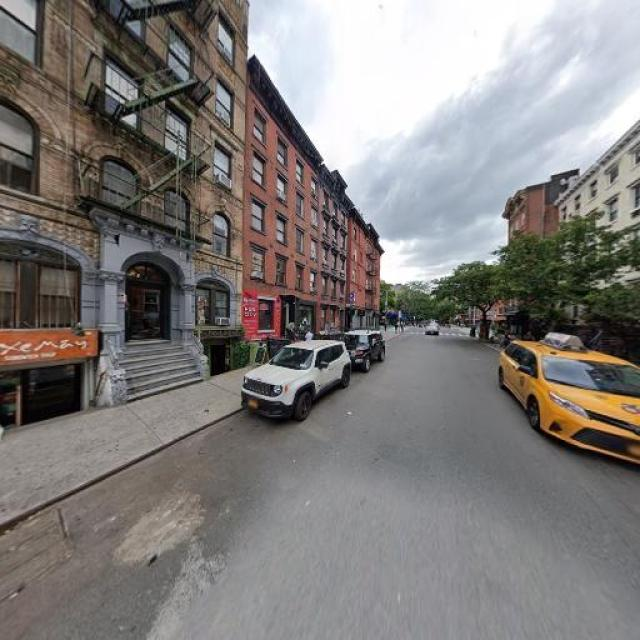Building: (1, 1, 244, 414), (247, 40, 319, 359), (578, 122, 640, 355), (322, 157, 353, 343)
